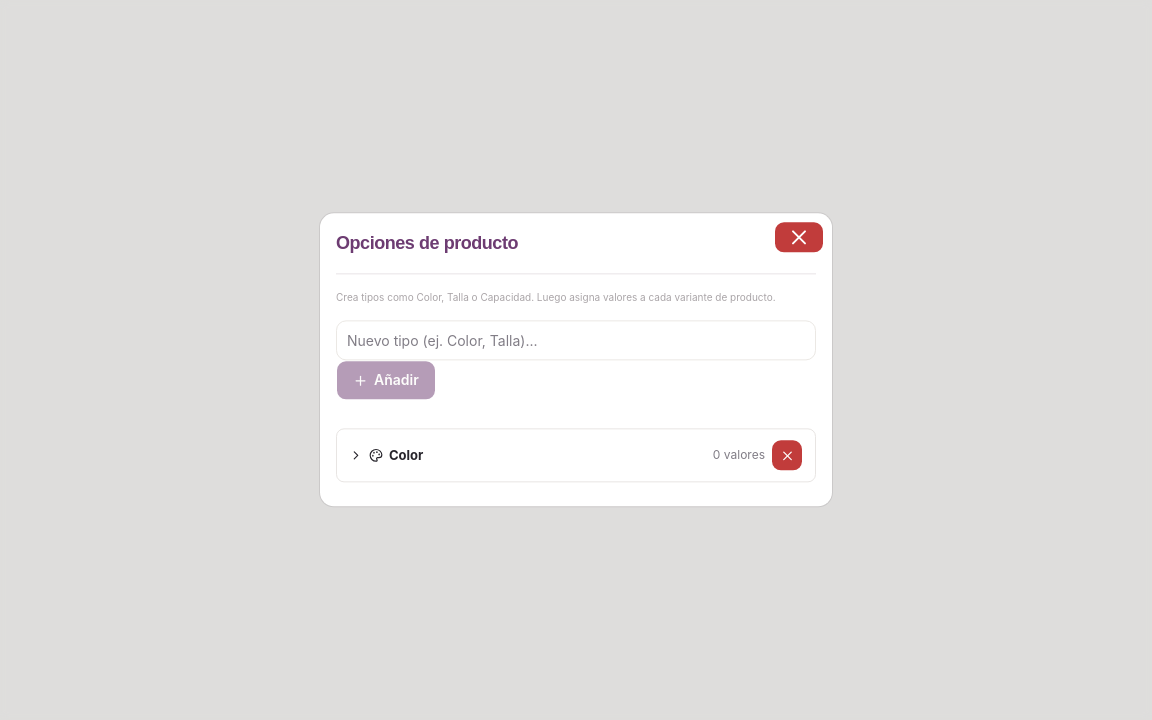
Test: OptionTypeManagerModal › Gestión de valores › debería mostrar "Sin valores aún" cuando el tipo no tiene valores
The width and height of the screenshot is (1152, 720).
Click the text "Color". click: coordinates (406, 456)
box: [389,446,423,465]
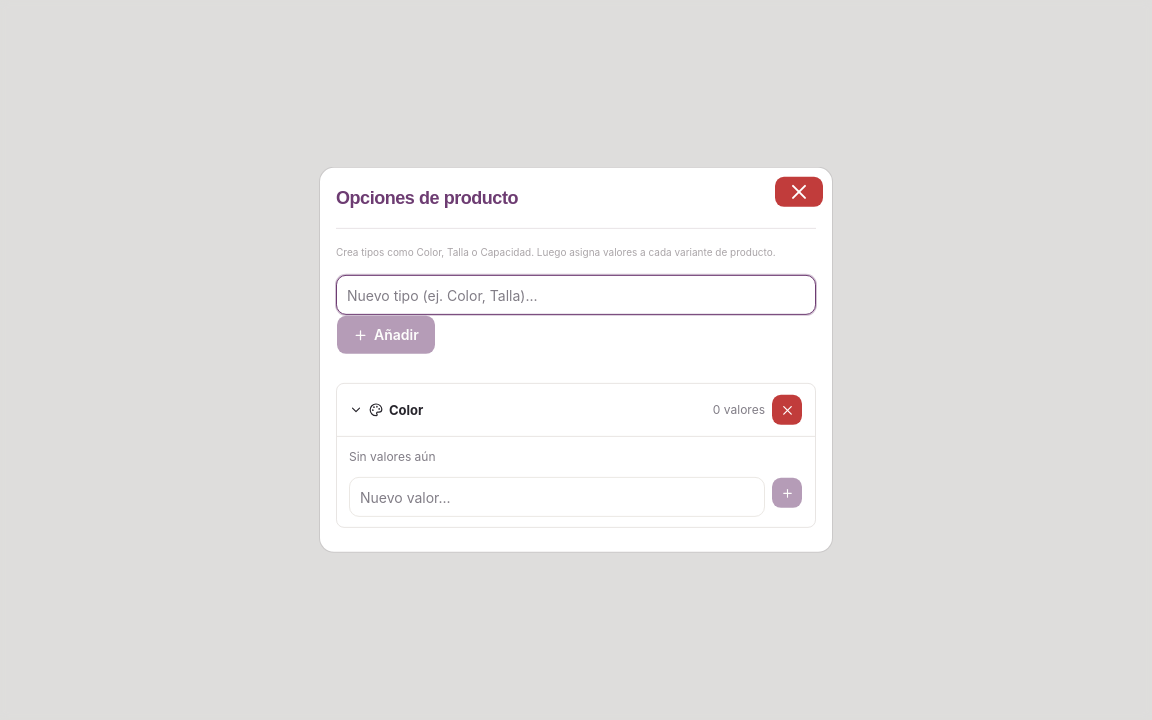
expect the list item "Sin valores aún" is shown: met, box [349,445,436,469]
